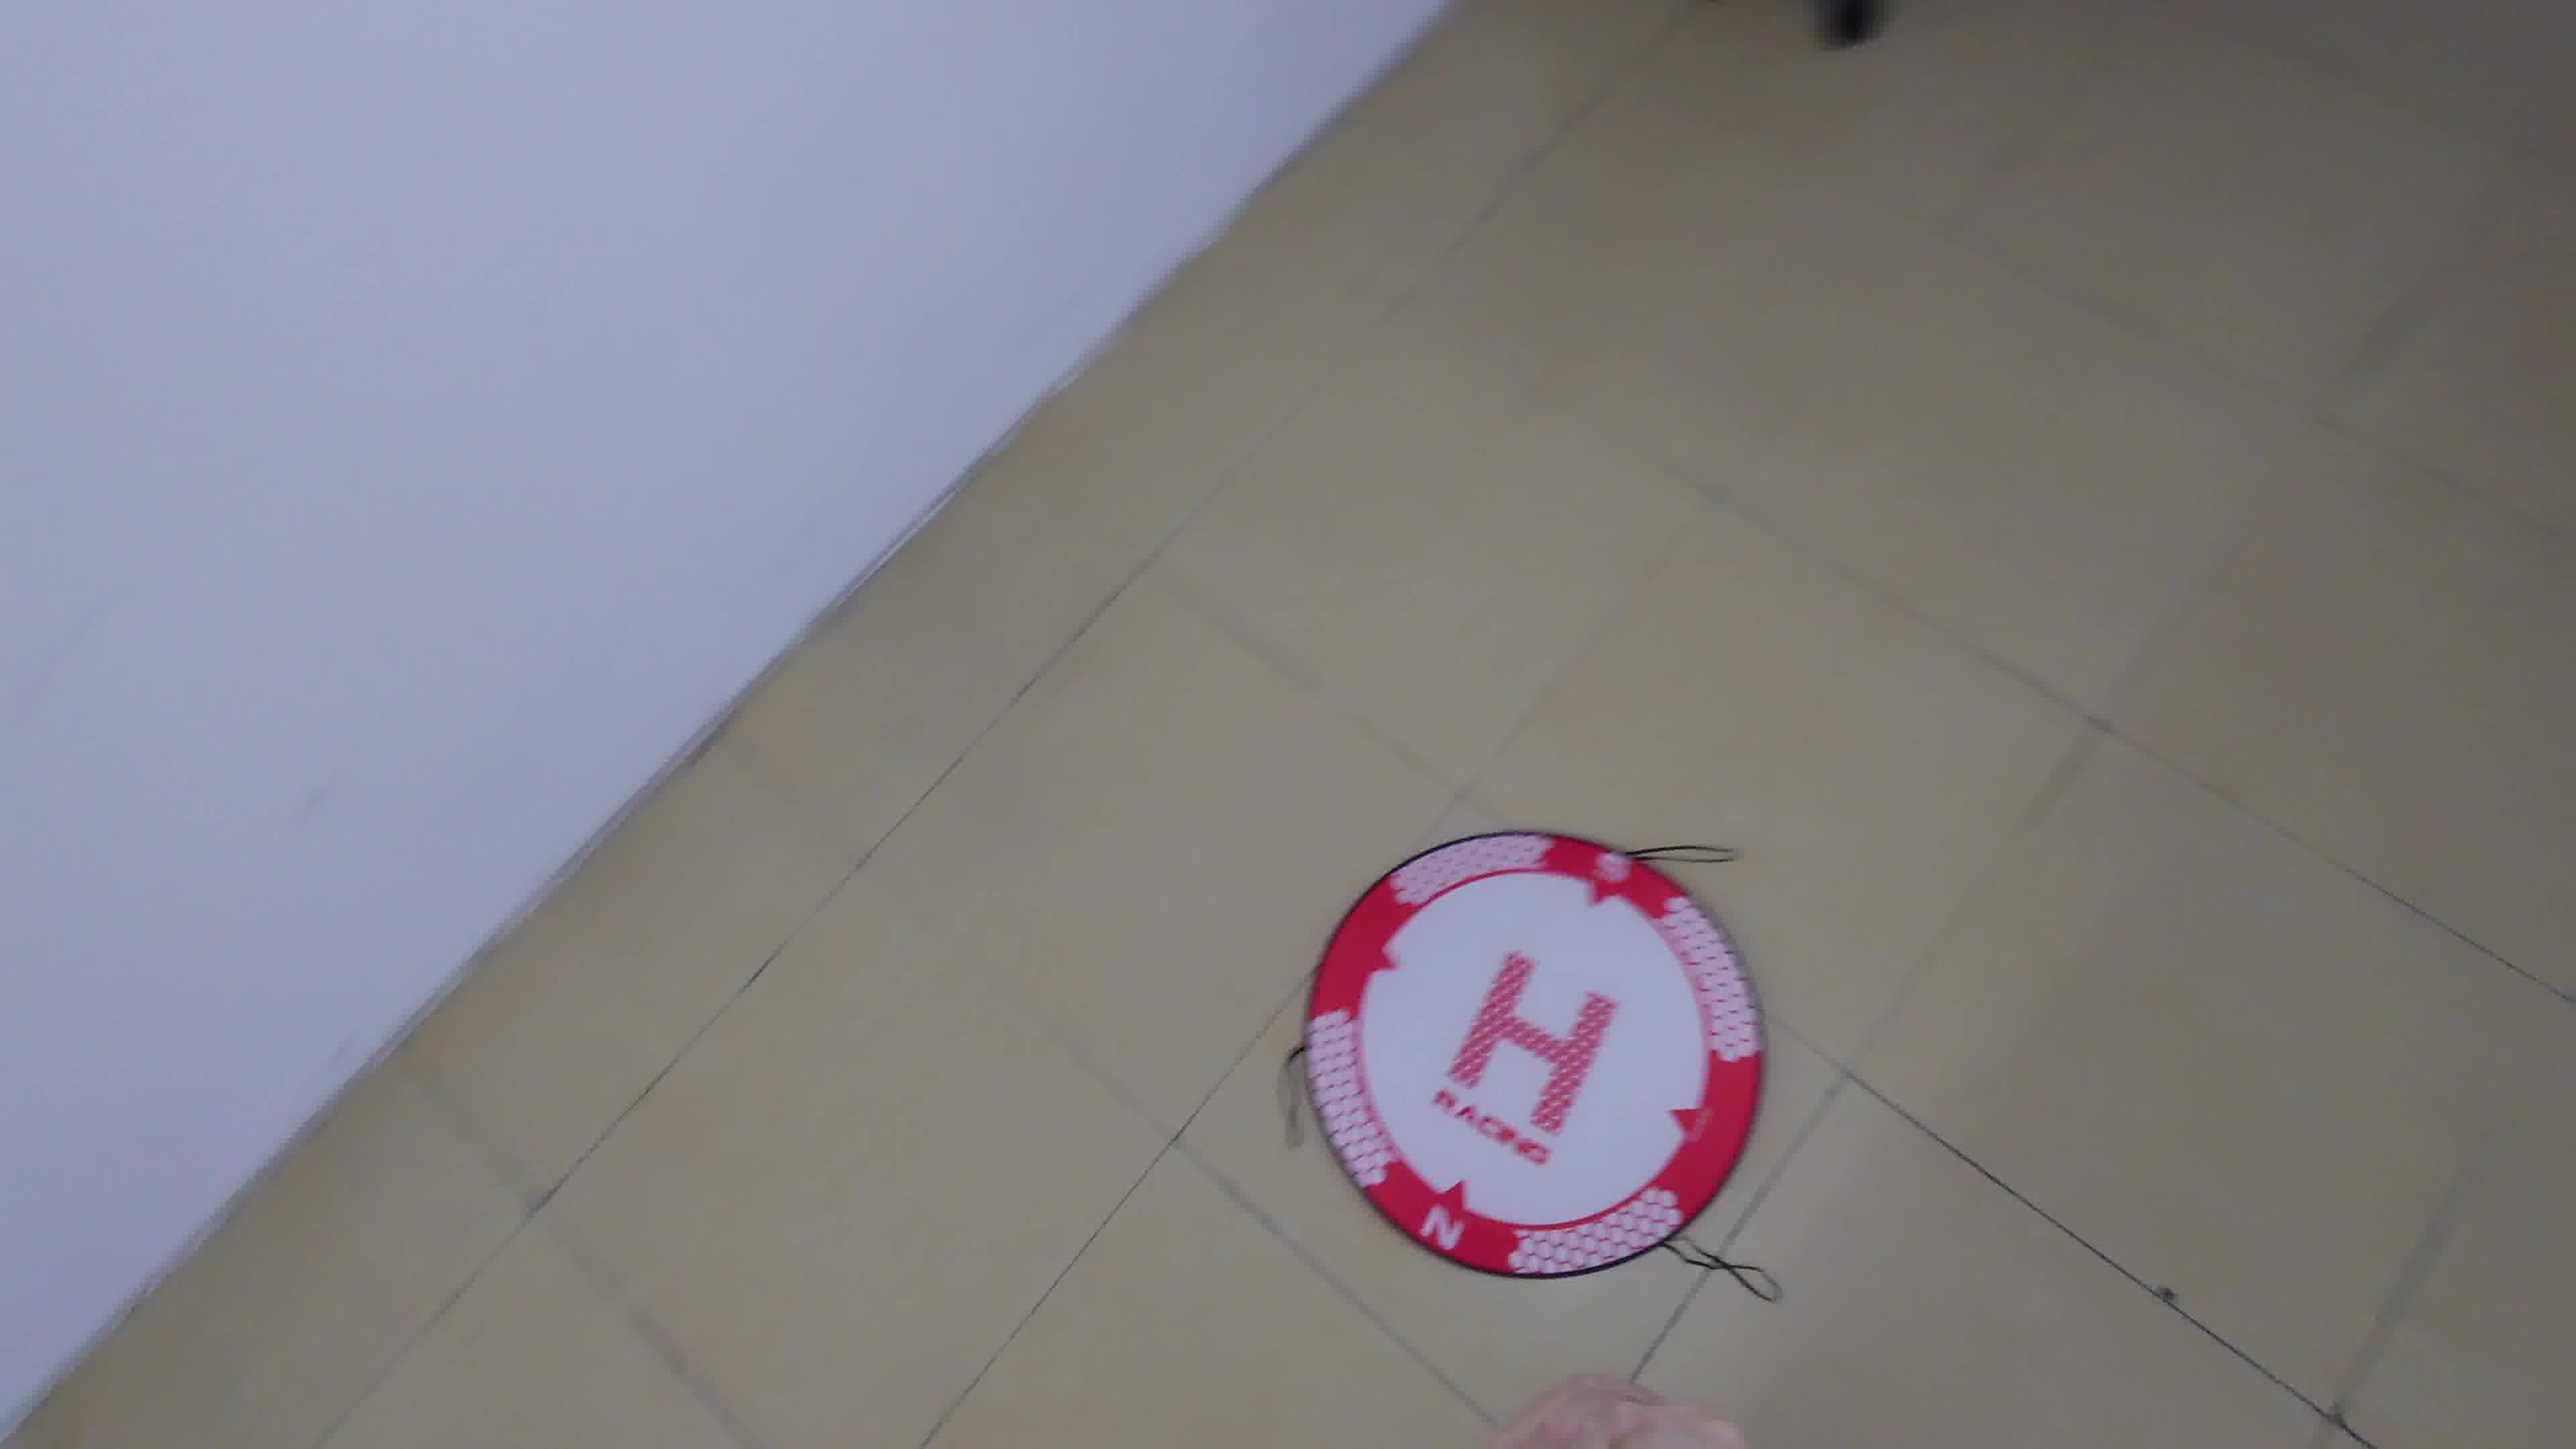H: (1444, 950, 1619, 1138)
